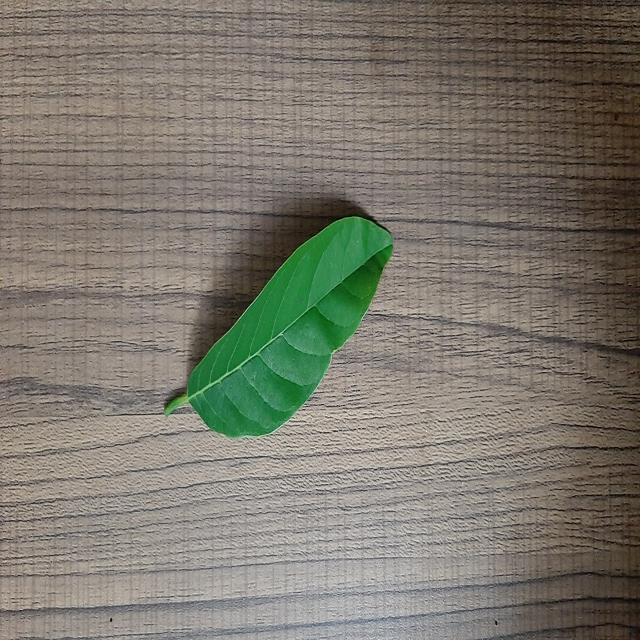seethaphala: (165, 217, 392, 436)
